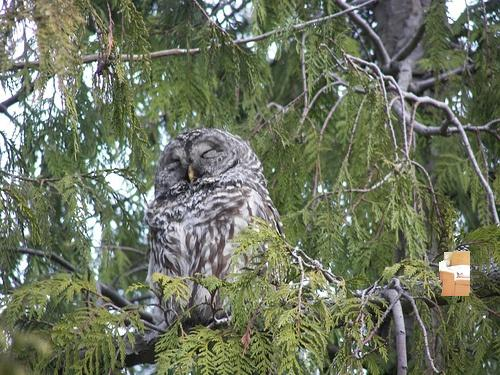tampered: (440, 252, 470, 296)
